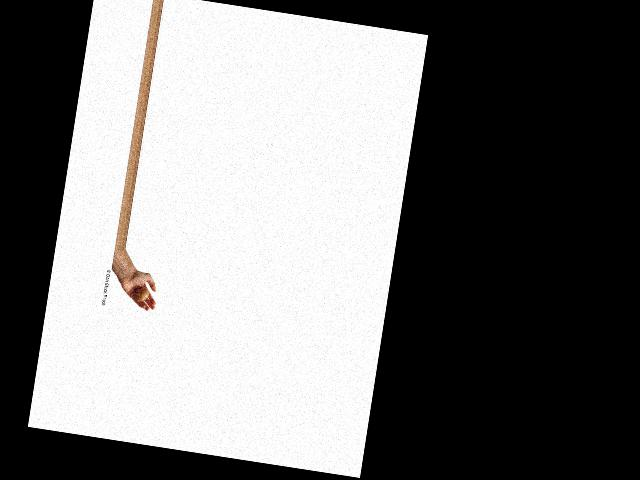egg: (133, 287, 148, 303)
